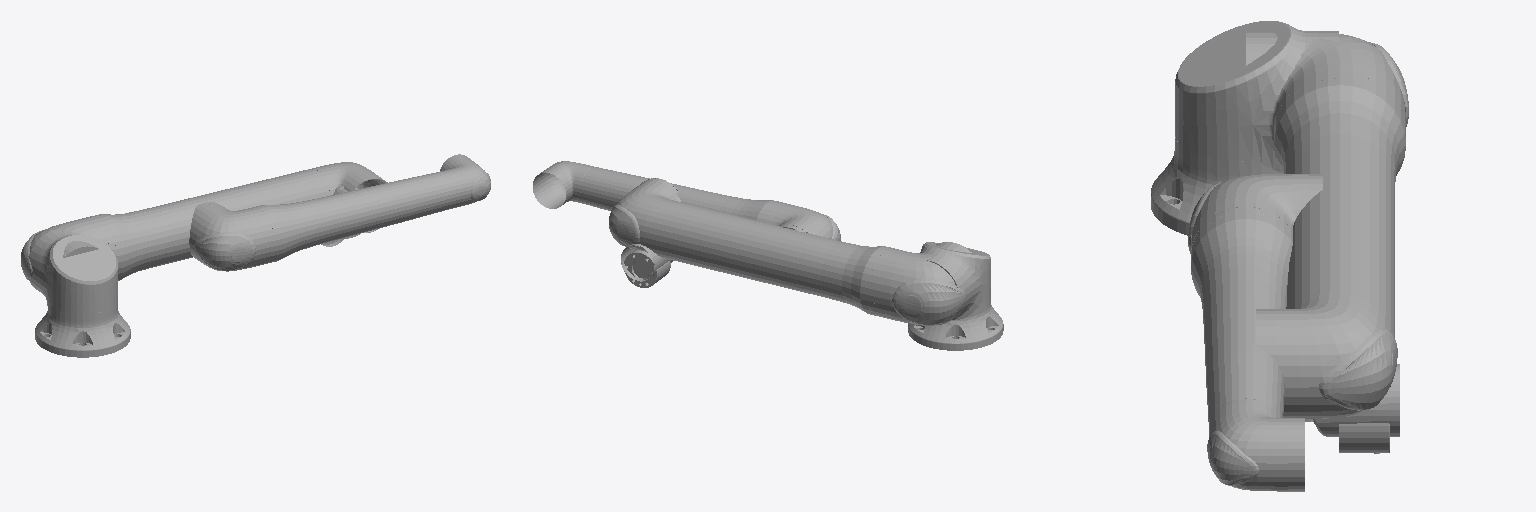
URDF robot description (ur5e_robot):
<?xml version="1.0" ?>
<!-- =================================================================================== -->
<!-- |    This document was autogenerated by xacro from ur5e.xacro                     | -->
<!-- |    EDITING THIS FILE BY HAND IS NOT RECOMMENDED                                 | -->
<!-- =================================================================================== -->
<robot name="ur5e_robot">
  <!--
    Base UR robot series xacro macro.

    NOTE: this is NOT a URDF. It cannot directly be loaded by consumers
    expecting a flattened '.urdf' file. See the top-level '.xacro' for that
    (but note: that .xacro must still be processed by the xacro command).

    For use in '.launch' files: use one of the 'load_urX.launch' convenience
    launch files.

    This file models the base kinematic chain of a UR robot, which then gets
    parameterised by various configuration files to convert it into a UR3(e),
    UR5(e), UR7e, UR10(e), UR12e UR16e, UR15, UR20 or UR30.

    NOTE: the default kinematic parameters (ie: link lengths, frame locations,
    offets, etc) do not correspond to any particular robot. They are defaults
    only. There WILL be non-zero offsets between the Forward Kinematics results
    in TF (ie: robot_state_publisher) and the values reported by the Teach
    Pendant.

    For accurate (and robot-specific) transforms, the 'kinematics_parameters_file'
    parameter MUST point to a .yaml file containing the appropriate values for
    the targetted robot.

    If using the UniversalRobots/Universal_Robots_ROS_Driver, follow the steps
    described in the readme of that repository to extract the kinematic
    calibration from the controller and generate the required .yaml file.

    Main author of the migration to yaml configs: Ludovic Delval.

    Contributors to previous versions (in no particular order):

     - Felix Messmer
     - Kelsey Hawkins
     - Wim Meeussen
     - Shaun Edwards
     - Nadia Hammoudeh Garcia
     - Dave Hershberger
     - G. vd. Hoorn
     - Philip Long
     - Dave Coleman
     - Miguel Prada
     - Mathias Luedtke
     - Marcel Schnirring
     - Felix von Drigalski
     - Felix Exner
     - Jimmy Da Silva
     - Ajit Krisshna N L
     - Muhammad Asif Rana
  -->
  <!--
    NOTE: the macro defined in this file is NOT part of the public API of this
          package. Users CANNOT rely on this file being available, or stored in
          this location. Nor can they rely on the existence of the macro.
  -->
  <transmission name="shoulder_pan_trans">
    <type>transmission_interface/SimpleTransmission</type>
    <joint name="shoulder_pan_joint">
      <hardwareInterface>hardware_interface/PositionJointInterface</hardwareInterface>
    </joint>
    <actuator name="shoulder_pan_motor">
      <mechanicalReduction>1</mechanicalReduction>
    </actuator>
  </transmission>
  <transmission name="shoulder_lift_trans">
    <type>transmission_interface/SimpleTransmission</type>
    <joint name="shoulder_lift_joint">
      <hardwareInterface>hardware_interface/PositionJointInterface</hardwareInterface>
    </joint>
    <actuator name="shoulder_lift_motor">
      <mechanicalReduction>1</mechanicalReduction>
    </actuator>
  </transmission>
  <transmission name="elbow_trans">
    <type>transmission_interface/SimpleTransmission</type>
    <joint name="elbow_joint">
      <hardwareInterface>hardware_interface/PositionJointInterface</hardwareInterface>
    </joint>
    <actuator name="elbow_motor">
      <mechanicalReduction>1</mechanicalReduction>
    </actuator>
  </transmission>
  <transmission name="wrist_1_trans">
    <type>transmission_interface/SimpleTransmission</type>
    <joint name="wrist_1_joint">
      <hardwareInterface>hardware_interface/PositionJointInterface</hardwareInterface>
    </joint>
    <actuator name="wrist_1_motor">
      <mechanicalReduction>1</mechanicalReduction>
    </actuator>
  </transmission>
  <transmission name="wrist_2_trans">
    <type>transmission_interface/SimpleTransmission</type>
    <joint name="wrist_2_joint">
      <hardwareInterface>hardware_interface/PositionJointInterface</hardwareInterface>
    </joint>
    <actuator name="wrist_2_motor">
      <mechanicalReduction>1</mechanicalReduction>
    </actuator>
  </transmission>
  <transmission name="wrist_3_trans">
    <type>transmission_interface/SimpleTransmission</type>
    <joint name="wrist_3_joint">
      <hardwareInterface>hardware_interface/PositionJointInterface</hardwareInterface>
    </joint>
    <actuator name="wrist_3_motor">
      <mechanicalReduction>1</mechanicalReduction>
    </actuator>
  </transmission>
  <!-- links: main serial chain -->
  <link name="base_link"/>
  <link name="base_link_inertia">
    <visual>
      <origin rpy="0 0 3.141592653589793" xyz="0 0 0"/>
      <geometry>
        <mesh filename="package://example-robot-data/robots/universal_robots/meshes_description/ur5e/visual/base.dae"/>
      </geometry>
      <material name="LightGrey">
        <color rgba="0.7 0.7 0.7 1.0"/>
      </material>
    </visual>
    <collision>
      <origin rpy="0 0 3.141592653589793" xyz="0 0 0"/>
      <geometry>
        <mesh filename="package://example-robot-data/robots/universal_robots/meshes_description/ur5e/collision/base.stl"/>
      </geometry>
    </collision>
    <inertial>
      <mass value="4.0"/>
      <origin rpy="0 0 0" xyz="0 0 0"/>
      <inertia ixx="0.00443333156" ixy="0.0" ixz="0.0" iyy="0.00443333156" iyz="0.0" izz="0.0072"/>
    </inertial>
  </link>
  <link name="shoulder_link">
    <visual>
      <origin rpy="0 0 3.141592653589793" xyz="0 0 0"/>
      <geometry>
        <mesh filename="package://example-robot-data/robots/universal_robots/meshes_description/ur5e/visual/shoulder.dae"/>
      </geometry>
      <material name="LightGrey">
        <color rgba="0.7 0.7 0.7 1.0"/>
      </material>
    </visual>
    <collision>
      <origin rpy="0 0 3.141592653589793" xyz="0 0 0"/>
      <geometry>
        <mesh filename="package://example-robot-data/robots/universal_robots/meshes_description/ur5e/collision/shoulder.stl"/>
      </geometry>
    </collision>
    <inertial>
      <mass value="3.761"/>
      <origin rpy="1.570796326794897 0 0" xyz="0.0 -0.00193 -0.02561"/>
      <inertia ixx="0.0070021" ixy="7.3e-07" ixz="-1.053e-05" iyy="0.00648091" iyz="0.00049994" izz="0.00657286"/>
    </inertial>
  </link>
  <link name="upper_arm_link">
    <visual>
      <origin rpy="1.5707963267948966 0 -1.5707963267948966" xyz="0 0 0.138"/>
      <geometry>
        <mesh filename="package://example-robot-data/robots/universal_robots/meshes_description/ur5e/visual/upperarm.dae"/>
      </geometry>
      <material name="LightGrey">
        <color rgba="0.7 0.7 0.7 1.0"/>
      </material>
    </visual>
    <collision>
      <origin rpy="1.5707963267948966 0 -1.5707963267948966" xyz="0 0 0.138"/>
      <geometry>
        <mesh filename="package://example-robot-data/robots/universal_robots/meshes_description/ur5e/collision/upperarm.stl"/>
      </geometry>
    </collision>
    <inertial>
      <mass value="8.058"/>
      <origin rpy="0 0 0" xyz="-0.2125 0.0 0.11336"/>
      <inertia ixx="0.01505885" ixy="-5.4e-05" ixz="5.63e-06" iyy="0.33388086" iyz="-1.81e-06" izz="0.33247207"/>
    </inertial>
  </link>
  <link name="forearm_link">
    <visual>
      <origin rpy="1.5707963267948966 0 -1.5707963267948966" xyz="0 0 0.007"/>
      <geometry>
        <mesh filename="package://example-robot-data/robots/universal_robots/meshes_description/ur5e/visual/forearm.dae"/>
      </geometry>
      <material name="LightGrey">
        <color rgba="0.7 0.7 0.7 1.0"/>
      </material>
    </visual>
    <collision>
      <origin rpy="1.5707963267948966 0 -1.5707963267948966" xyz="0 0 0.007"/>
      <geometry>
        <mesh filename="package://example-robot-data/robots/universal_robots/meshes_description/ur5e/collision/forearm.stl"/>
      </geometry>
    </collision>
    <inertial>
      <mass value="2.846"/>
      <origin rpy="0 0 0" xyz="-0.2422 0.0 0.0265"/>
      <inertia ixx="0.00399632" ixy="-1.365e-05" ixz="0.00137272" iyy="0.07879254" iyz="-6.6e-06" izz="0.0784851"/>
    </inertial>
  </link>
  <link name="wrist_1_link">
    <visual>
      <!-- TODO: Move this to a parameter -->
      <origin rpy="1.5707963267948966 0 0" xyz="0 0 -0.127"/>
      <geometry>
        <mesh filename="package://example-robot-data/robots/universal_robots/meshes_description/ur5e/visual/wrist1.dae"/>
      </geometry>
      <material name="LightGrey">
        <color rgba="0.7 0.7 0.7 1.0"/>
      </material>
    </visual>
    <collision>
      <origin rpy="1.5707963267948966 0 0" xyz="0 0 -0.127"/>
      <geometry>
        <mesh filename="package://example-robot-data/robots/universal_robots/meshes_description/ur5e/collision/wrist1.stl"/>
      </geometry>
    </collision>
    <inertial>
      <mass value="1.37"/>
      <origin rpy="1.570796326794897 0 0" xyz="0.0 -0.01634 -0.0018"/>
      <inertia ixx="0.00165491" ixy="-2.82e-06" ixz="-4.38e-06" iyy="0.00135962" iyz="0.00010157" izz="0.00126279"/>
    </inertial>
  </link>
  <link name="wrist_2_link">
    <visual>
      <origin rpy="0 0 0" xyz="0 0 -0.0997"/>
      <geometry>
        <mesh filename="package://example-robot-data/robots/universal_robots/meshes_description/ur5e/visual/wrist2.dae"/>
      </geometry>
      <material name="LightGrey">
        <color rgba="0.7 0.7 0.7 1.0"/>
      </material>
    </visual>
    <collision>
      <origin rpy="0 0 0" xyz="0 0 -0.0997"/>
      <geometry>
        <mesh filename="package://example-robot-data/robots/universal_robots/meshes_description/ur5e/collision/wrist2.stl"/>
      </geometry>
    </collision>
    <inertial>
      <mass value="1.3"/>
      <origin rpy="-1.570796326794897 0 0" xyz="0.0 0.01634 -0.0018"/>
      <inertia ixx="0.00135617" ixy="-2.74e-06" ixz="4.44e-06" iyy="0.00127827" iyz="-5.048e-05" izz="0.00096614"/>
    </inertial>
  </link>
  <link name="wrist_3_link">
    <visual>
      <origin rpy="1.5707963267948966 0 0" xyz="0 0 -0.0989"/>
      <geometry>
        <mesh filename="package://example-robot-data/robots/universal_robots/meshes_description/ur5e/visual/wrist3.dae"/>
      </geometry>
      <material name="LightGrey">
        <color rgba="0.7 0.7 0.7 1.0"/>
      </material>
    </visual>
    <collision>
      <origin rpy="1.5707963267948966 0 0" xyz="0 0 -0.0989"/>
      <geometry>
        <mesh filename="package://example-robot-data/robots/universal_robots/meshes_description/ur5e/collision/wrist3.stl"/>
      </geometry>
    </collision>
    <inertial>
      <mass value="0.365"/>
      <origin rpy="0 0 0" xyz="0.0 0.0 -0.001159"/>
      <inertia ixx="0.00018694" ixy="6e-08" ixz="-1.7e-07" iyy="0.00018908" iyz="-9.2e-07" izz="0.00025756"/>
    </inertial>
  </link>
  <!-- joints: main serial chain -->
  <joint name="base_link-base_link_inertia" type="fixed">
    <parent link="base_link"/>
    <child link="base_link_inertia"/>
    <!-- 'base_link' is REP-103 aligned (so X+ forward), while the internal
           frames of the robot/controller have X+ pointing backwards.
           Use the joint between 'base_link' and 'base_link_inertia' (a dummy
           link/frame) to introduce the necessary rotation over Z (of pi rad).
      -->
    <origin rpy="0 0 3.141592653589793" xyz="0 0 0"/>
  </joint>
  <joint name="shoulder_pan_joint" type="revolute">
    <parent link="base_link_inertia"/>
    <child link="shoulder_link"/>
    <origin rpy="0 0 0" xyz="0 0 0.1625"/>
    <axis xyz="0 0 1"/>
    <limit effort="150.0" lower="-6.283185307179586" upper="6.283185307179586" velocity="3.141592653589793"/>
    <dynamics damping="0" friction="0"/>
  </joint>
  <joint name="shoulder_lift_joint" type="revolute">
    <parent link="shoulder_link"/>
    <child link="upper_arm_link"/>
    <origin rpy="1.570796327 0 0" xyz="0 0 0"/>
    <axis xyz="0 0 1"/>
    <limit effort="150.0" lower="-6.283185307179586" upper="6.283185307179586" velocity="3.141592653589793"/>
    <dynamics damping="0" friction="0"/>
  </joint>
  <joint name="elbow_joint" type="revolute">
    <parent link="upper_arm_link"/>
    <child link="forearm_link"/>
    <origin rpy="0 0 0" xyz="-0.425 0 0"/>
    <axis xyz="0 0 1"/>
    <limit effort="150.0" lower="-3.141592653589793" upper="3.141592653589793" velocity="3.141592653589793"/>
    <dynamics damping="0" friction="0"/>
  </joint>
  <joint name="wrist_1_joint" type="revolute">
    <parent link="forearm_link"/>
    <child link="wrist_1_link"/>
    <origin rpy="0 0 0" xyz="-0.3922 0 0.1333"/>
    <axis xyz="0 0 1"/>
    <limit effort="28.0" lower="-6.283185307179586" upper="6.283185307179586" velocity="3.141592653589793"/>
    <dynamics damping="0" friction="0"/>
  </joint>
  <joint name="wrist_2_joint" type="revolute">
    <parent link="wrist_1_link"/>
    <child link="wrist_2_link"/>
    <origin rpy="1.570796327 0 0" xyz="0 -0.0997 -2.044881182297852e-11"/>
    <axis xyz="0 0 1"/>
    <limit effort="28.0" lower="-6.283185307179586" upper="6.283185307179586" velocity="3.141592653589793"/>
    <dynamics damping="0" friction="0"/>
  </joint>
  <joint name="wrist_3_joint" type="revolute">
    <parent link="wrist_2_link"/>
    <child link="wrist_3_link"/>
    <origin rpy="1.570796326589793 3.141592653589793 3.141592653589793" xyz="0 0.0996 -2.042830148012698e-11"/>
    <axis xyz="0 0 1"/>
    <limit effort="28.0" lower="-6.283185307179586" upper="6.283185307179586" velocity="3.141592653589793"/>
    <dynamics damping="0" friction="0"/>
  </joint>
  <!-- ROS-Industrial 'base' frame: base_link to UR 'Base' Coordinates transform -->
  <link name="base"/>
  <joint name="base_link-base_fixed_joint" type="fixed">
    <!-- Note the rotation over Z of pi radians: as base_link is REP-103
           aligned (ie: has X+ forward, Y+ left and Z+ up), this is needed
           to correctly align 'base' with the 'Base' coordinate system of
           the UR controller.
      -->
    <origin rpy="0 0 3.141592653589793" xyz="0 0 0"/>
    <parent link="base_link"/>
    <child link="base"/>
  </joint>
  <!-- ROS-Industrial 'flange' frame: attachment point for EEF models -->
  <link name="flange"/>
  <joint name="wrist_3-flange" type="fixed">
    <parent link="wrist_3_link"/>
    <child link="flange"/>
    <origin rpy="0 -1.5707963267948966 -1.5707963267948966" xyz="0 0 0"/>
  </joint>
  <!-- ROS-Industrial 'tool0' frame: all-zeros tool frame -->
  <link name="tool0"/>
  <joint name="flange-tool0" type="fixed">
    <!-- default toolframe: X+ left, Y+ up, Z+ front -->
    <origin rpy="1.5707963267948966 0 1.5707963267948966" xyz="0 0 0"/>
    <parent link="flange"/>
    <child link="tool0"/>
  </joint>
</robot>

--- Render facts (derived) ---
Views: 3 orthographic renders of the robot side by side, from view 1: azimuth 30°, elevation 25°; view 2: azimuth 150°, elevation 25°; view 3: azimuth 270°, elevation 25°.
Robot: ur5e_robot — 11 links, 10 joints (6 revolute, 4 fixed); root link base_link; default pose: all joints at 0.
Links seen in each view (by area): view 1: forearm_link, upper_arm_link, shoulder_link, base_link_inertia; view 2: upper_arm_link, forearm_link, shoulder_link, base_link_inertia, wrist_3_link; view 3: upper_arm_link, forearm_link, shoulder_link, base_link_inertia, wrist_2_link, wrist_3_link.
Link boxes in pixels (x1=…): forearm_link: x1=189, y1=154, x2=490, y2=271; upper_arm_link: x1=21, y1=162, x2=387, y2=280; shoulder_link: x1=28, y1=229, x2=117, y2=321; base_link_inertia: x1=35, y1=302, x2=130, y2=357; upper_arm_link: x1=609, y1=178, x2=974, y2=325; forearm_link: x1=533, y1=161, x2=840, y2=240; shoulder_link: x1=920, y1=242, x2=990, y2=324; base_link_inertia: x1=908, y1=294, x2=1003, y2=350; wrist_3_link: x1=624, y1=250, x2=670, y2=287; upper_arm_link: x1=1246, y1=31, x2=1408, y2=418; forearm_link: x1=1188, y1=174, x2=1322, y2=491; shoulder_link: x1=1175, y1=21, x2=1338, y2=178; base_link_inertia: x1=1151, y1=137, x2=1247, y2=235; wrist_2_link: x1=1313, y1=364, x2=1399, y2=436; wrist_3_link: x1=1339, y1=423, x2=1389, y2=453.
Bounding box of the posed robot: 1.33 × 0.3525 × 0.2592 m (x, y, z).
7 mesh visuals loaded from 7 distinct referenced files (7 Collada DAE).
